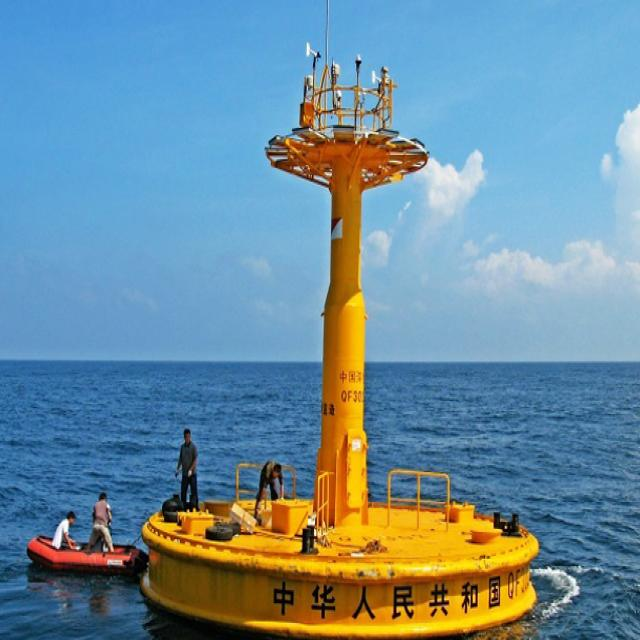buoy: (145, 46, 542, 635)
